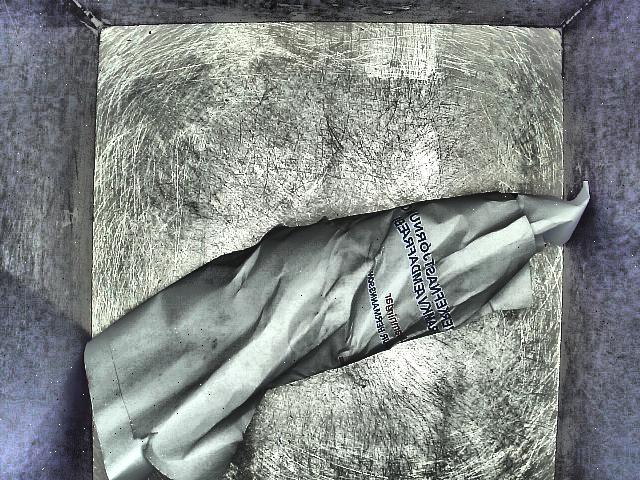Paper: (46, 183, 615, 480)
